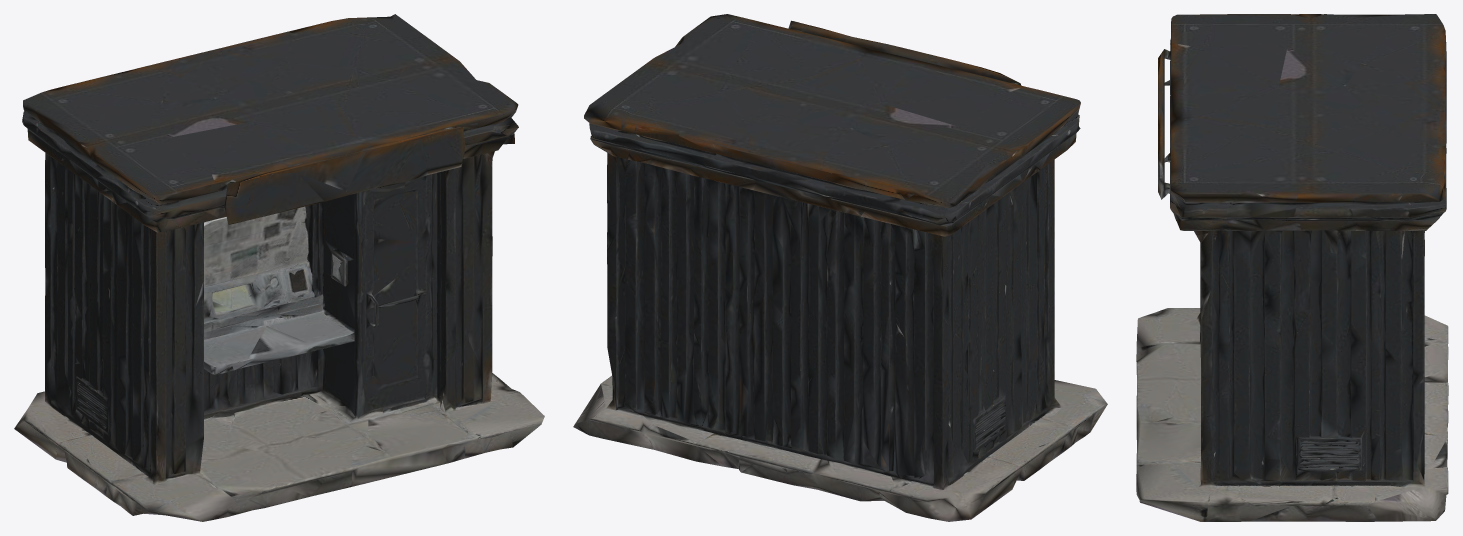
The model's file is station.glb.
The picture shows the model from 3 angles, left to right: view 1: azimuth 30°, elevation 25°; view 2: azimuth 150°, elevation 25°; view 3: azimuth 270°, elevation 25°; orthographic projection.
Bounding box in the file's own units: 1.9 × 1.48 × 1.29.
Materials: 1 (1 with a texture image).
